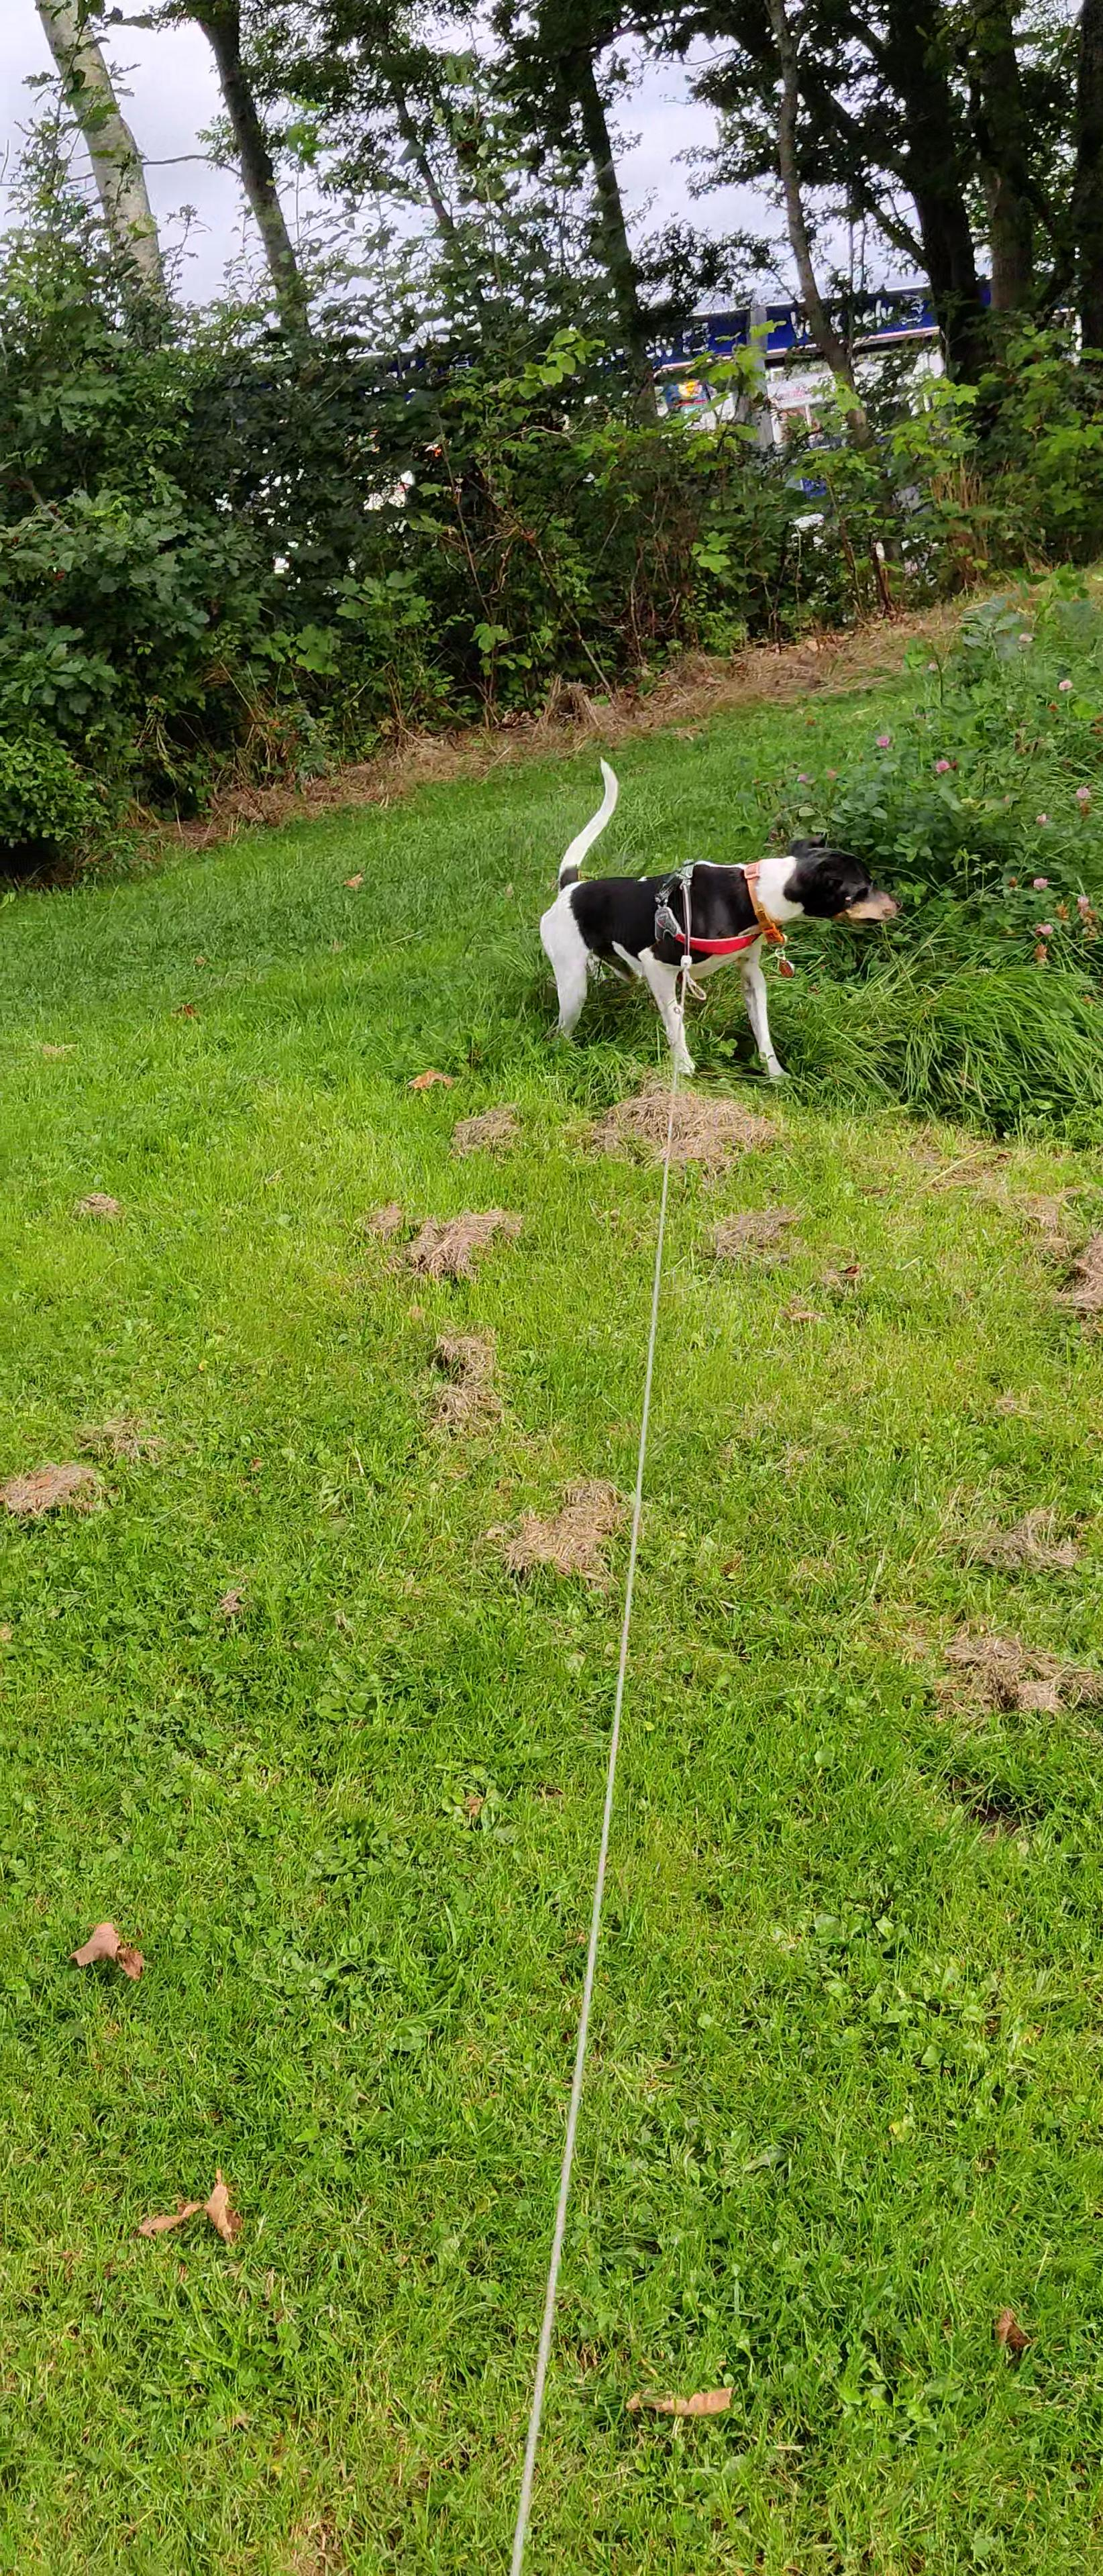Dog: (536, 752, 907, 1086)
